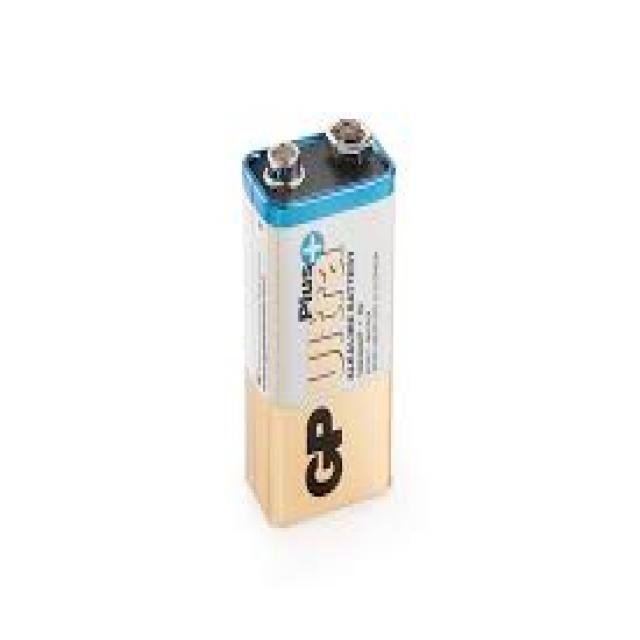battery: (240, 112, 394, 521)
